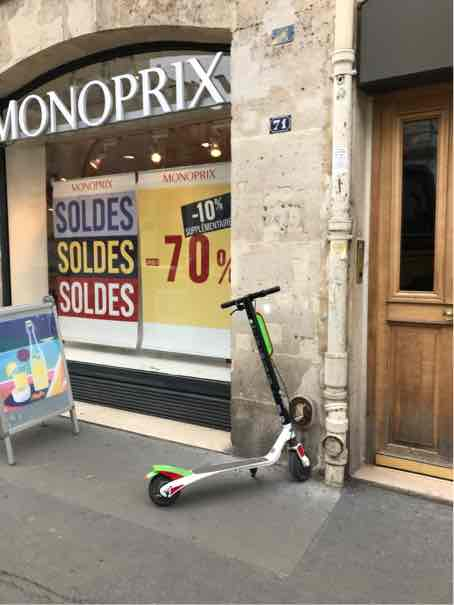scooter: (137, 274, 321, 508)
